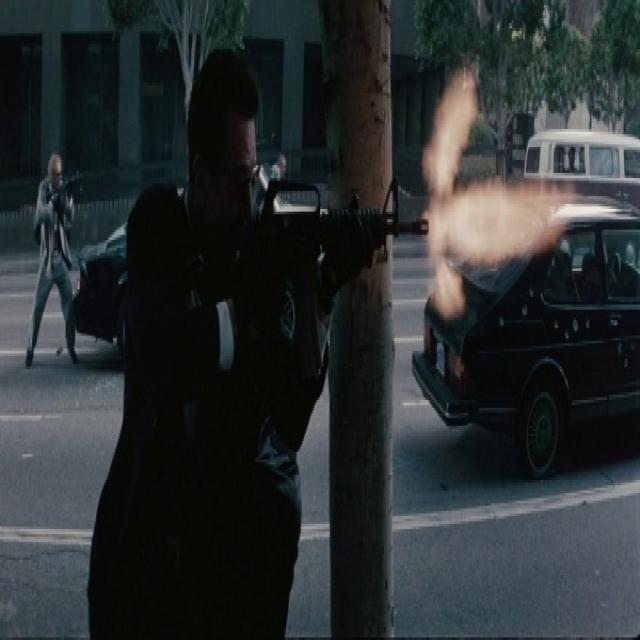rifle: (245, 171, 441, 298)
